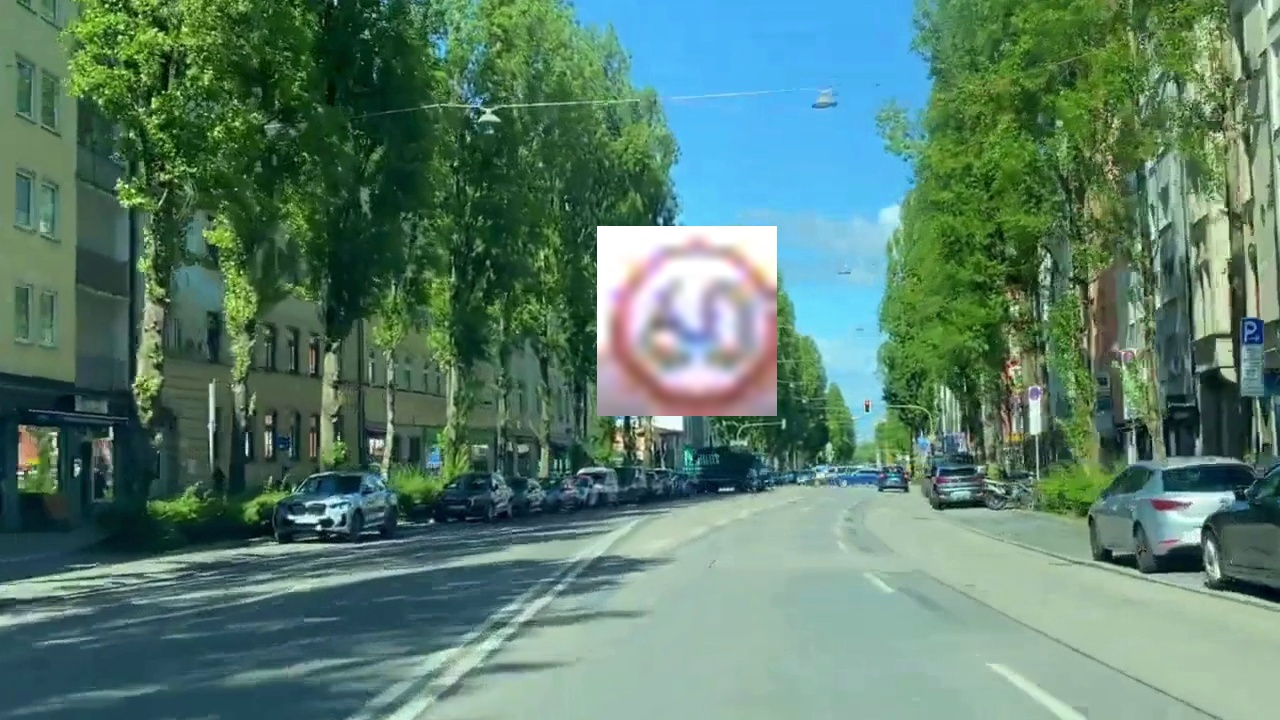Speed 60: (597, 226, 777, 416)
